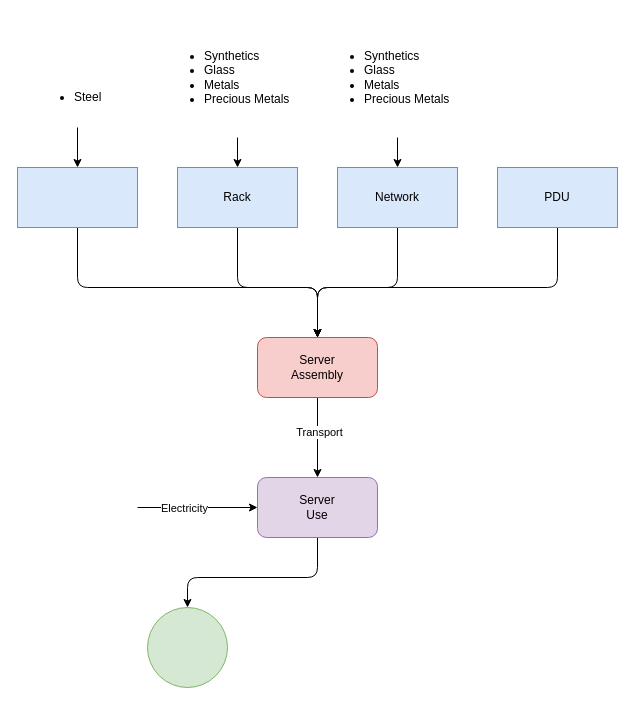
Image size: 635x705. Some labels were removed from this diagram. The centre of each missing label's shape, as x and y in pixels:
Chassis: point (77, 197)
Waste: collected and treatment: point (187, 647)
